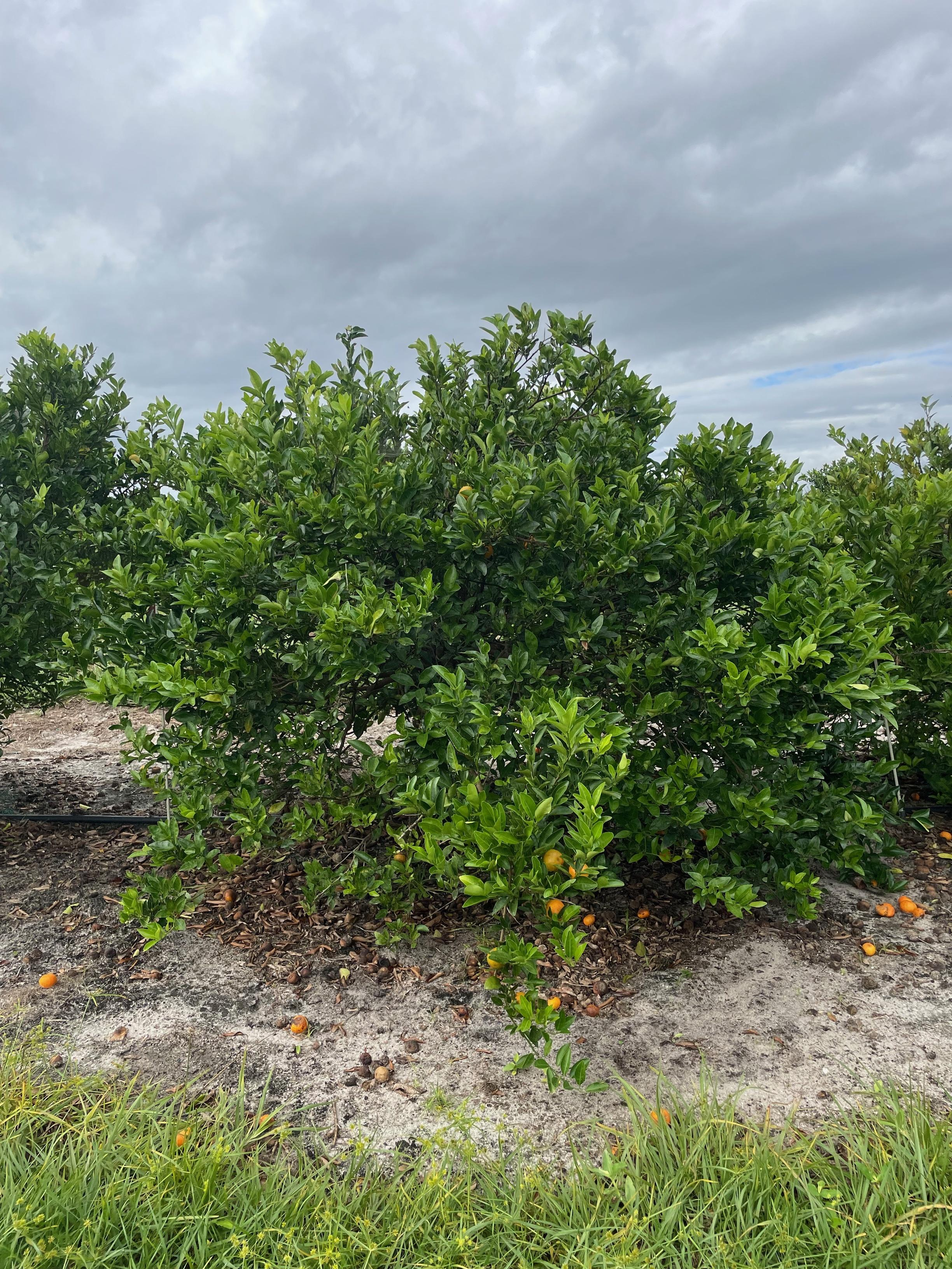fruit_on_ground: (540, 846, 568, 874), (565, 857, 592, 884), (485, 944, 510, 971), (542, 897, 568, 922), (473, 539, 495, 562), (456, 483, 477, 502), (391, 849, 410, 865), (127, 452, 142, 466)
fruit_on_tree: (648, 1104, 673, 1128), (288, 1012, 310, 1035), (37, 969, 60, 989), (372, 1063, 392, 1083), (172, 1128, 191, 1149), (255, 1110, 276, 1129), (875, 900, 896, 918), (898, 898, 919, 915), (859, 940, 878, 958), (545, 993, 563, 1011), (583, 1000, 602, 1017), (580, 911, 598, 928), (221, 887, 238, 904), (910, 904, 928, 920), (635, 905, 652, 920), (937, 827, 952, 842), (896, 894, 913, 907)
